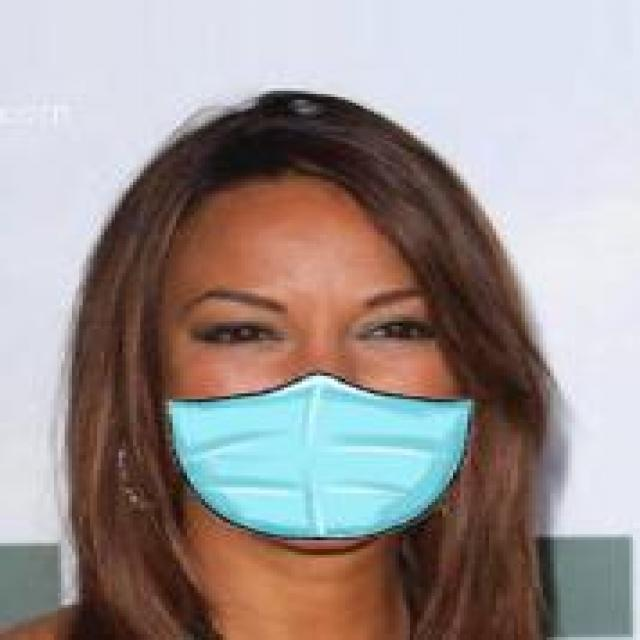mask: (94, 76, 568, 561)
